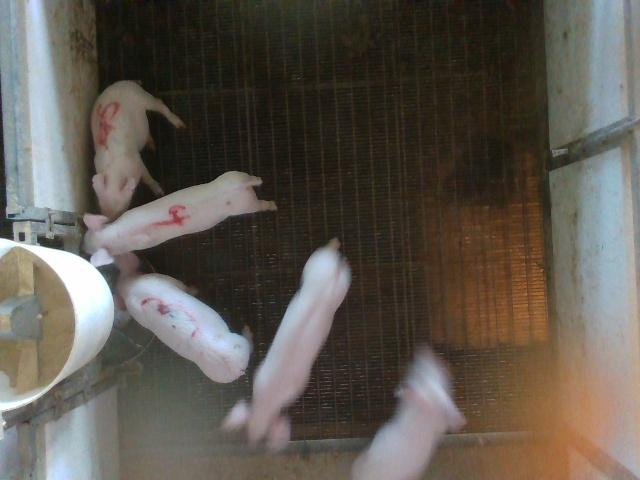pig-3: (115, 252, 251, 382)
pig-4: (85, 171, 276, 266)
pig-5: (91, 81, 184, 221)
